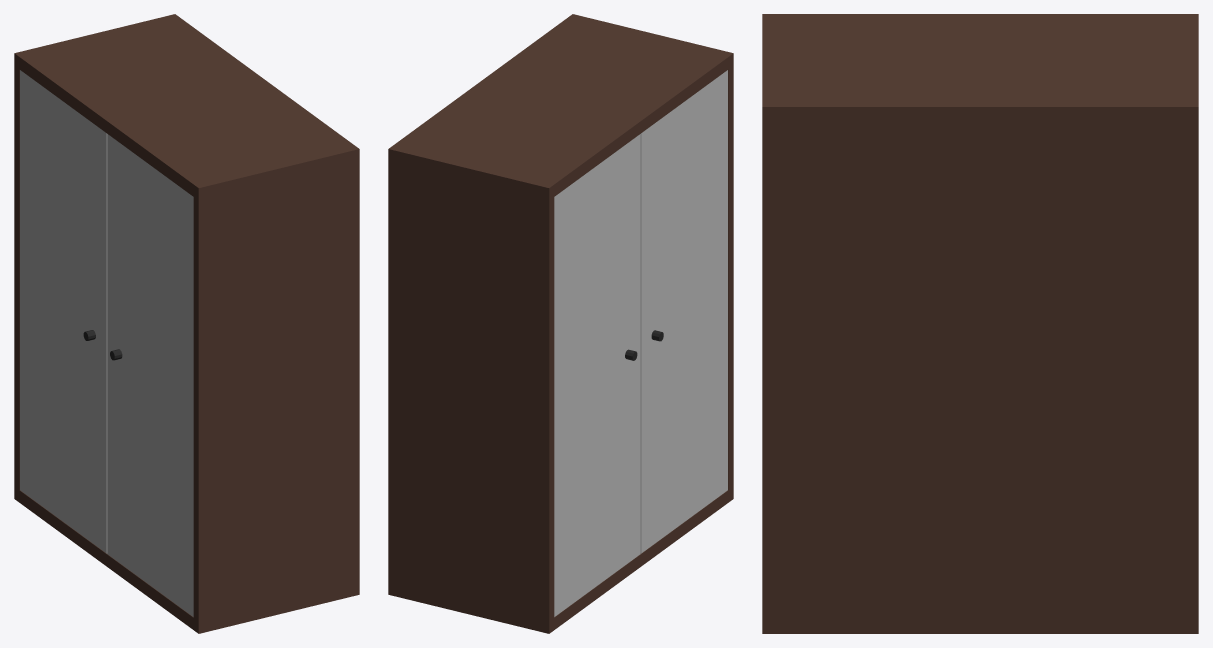
Rendered from Cabinet152.fbx.
3 renders of one model, left to right at view 1: azimuth 30°, elevation 25°; view 2: azimuth 150°, elevation 25°; view 3: azimuth 270°, elevation 25°, orthographic. The views are drawn at different scales.
Parts seen in each view (by area): view 1: Body152, DoorLeft152, DoorRight152; view 2: Body152, DoorRight152, DoorLeft152; view 3: Body152.
Part boxes in pixels (x1=…): Body152: x1=14, y1=14, x2=359, y2=633; DoorLeft152: x1=20, y1=70, x2=107, y2=553; DoorRight152: x1=107, y1=134, x2=193, y2=616; Body152: x1=388, y1=14, x2=733, y2=633; DoorRight152: x1=640, y1=70, x2=727, y2=553; DoorLeft152: x1=554, y1=134, x2=640, y2=616; Body152: x1=762, y1=14, x2=1198, y2=633.
Bounding box in the file's own units: 78.85 × 200 × 150.
